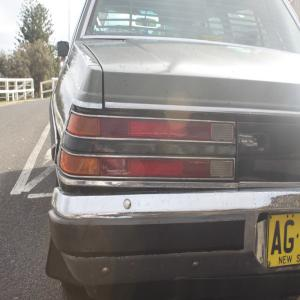Vehicle-registration-plate: (268, 214, 300, 272)
